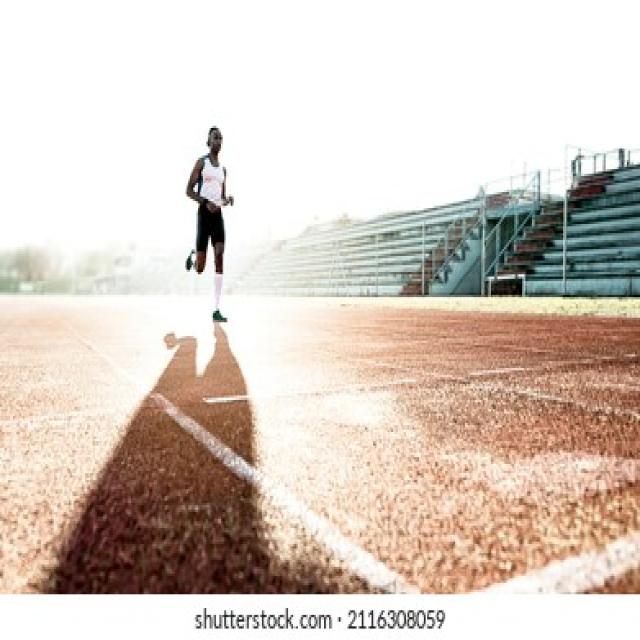running: (182, 125, 240, 331)
